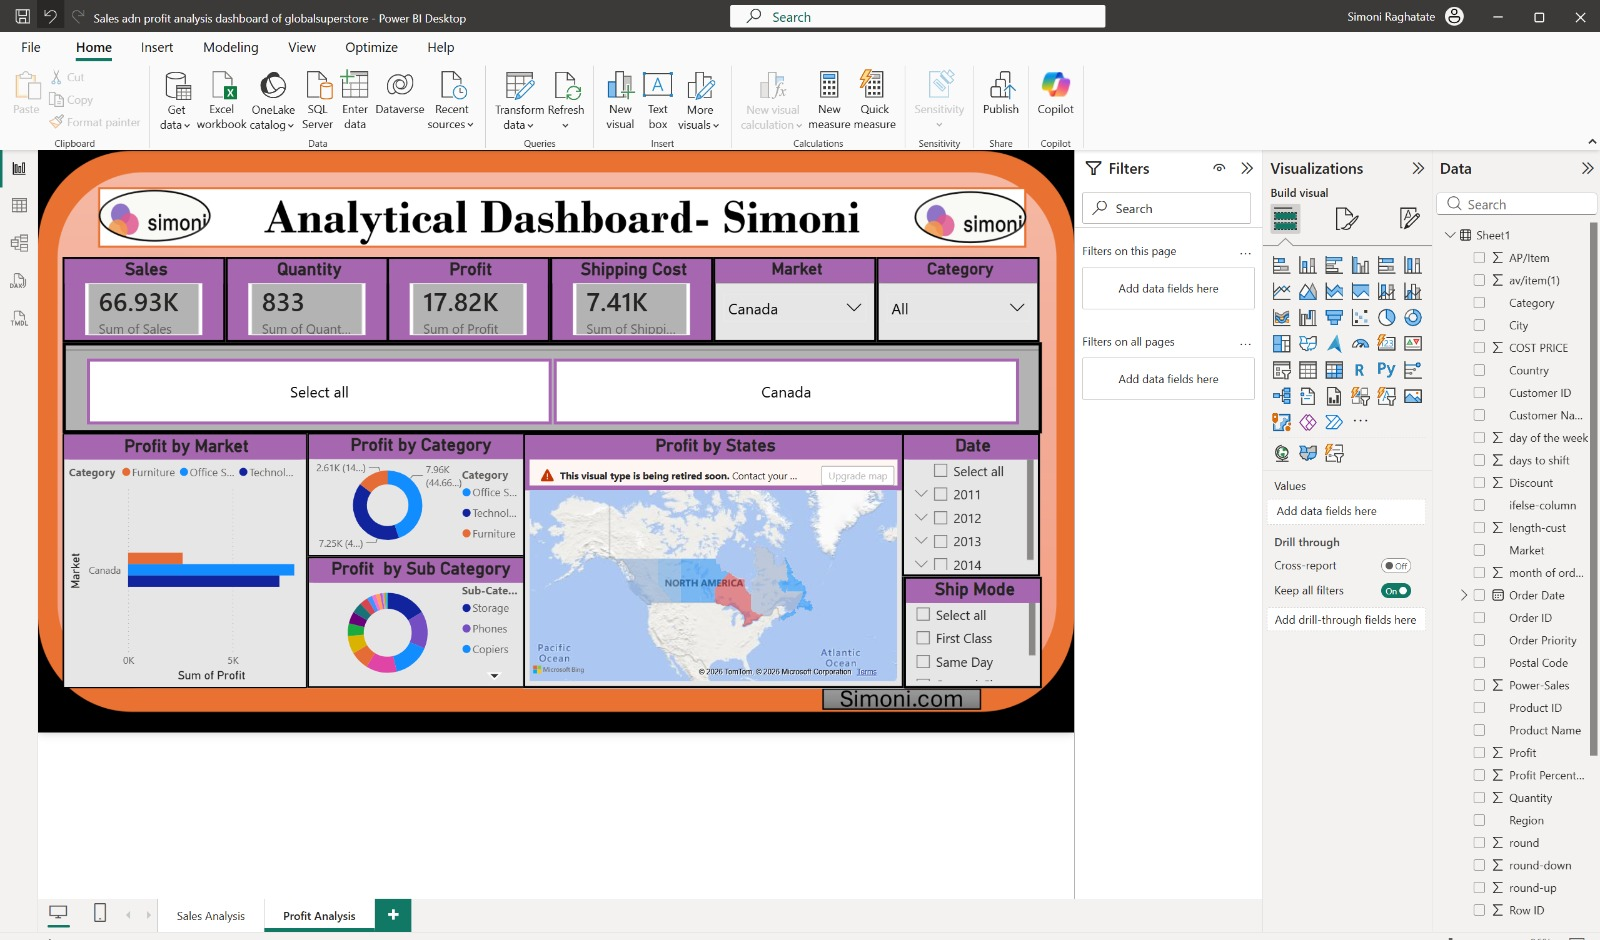

This screenshot's page, from the dashboard's own definition file:
{"tool":"powerbi","page":{"name":"Profit Analysis ","canvas":[1280,720],"ordinal":1},"visuals":[{"type":"cardVisual","title":"Sales","fields":{"Data":["Sum(Sheet1.Sales)"]},"box":[30.1,132.1,201.6,105.4],"z":0},{"type":"slicer","title":"Market ","fields":{"Values":["Sheet1.Market"]},"box":[834.3,132.1,201.6,105.4],"z":1000},{"type":"slicer","title":"Category ","fields":{"Values":["Sheet1.Category"]},"box":[1035.9,132.1,201.6,105.4],"z":2000},{"type":"slicer","fields":{"Values":["Sheet1.Country"]},"box":[30.1,237.5,1209.7,112.4],"z":3000},{"type":"clusteredBarChart","title":"Profit by Market ","fields":{"Category":["Sheet1.Market"],"Series":["Sheet1.Category"],"Y":["Sum(Sheet1.Profit)"]},"box":[30.1,349.9,302.4,315.2],"z":4000},{"type":"donutChart","title":"Profit by Category ","fields":{"Category":["Sheet1.Category"],"Y":["Sum(Sheet1.Profit)"]},"box":[332.6,349.9,276.9,153],"z":5000},{"type":"donutChart","title":"Profit  by Sub Category ","fields":{"Category":["Sheet1.Sub-Category"],"Y":["Sum(Sheet1.Profit)"]},"box":[332.6,502.9,276.9,162.2],"z":6000},{"type":"filledMap","title":"Profit by States","fields":{"Category":["Sheet1.State"]},"box":[599.1,349.9,470.4,315.2],"z":7000},{"type":"slicer","title":"Date","fields":{"Values":["Sheet1.Order Date.Variation.Date Hierarchy.Year","Sheet1.Order Date.Variation.Date Hierarchy.Quarter","Sheet1.Order Date.Variation.Date Hierarchy.Month","Sheet1.Order Date.Variation.Date Hierarchy.Day"]},"box":[1067.2,349.9,170.3,177.3],"z":8000},{"type":"slicer","title":"Ship Mode ","fields":{"Values":["Sheet1.Ship Mode"]},"box":[1069.5,527.2,170.3,137.9],"z":9000},{"type":"cardVisual","title":"Quantity","fields":{"Data":["Sum(Sheet1.Quantity)"]},"box":[231.7,132.1,201.6,105.4],"z":10000},{"type":"cardVisual","title":"Profit ","fields":{"Data":["Sum(Sheet1.Profit)"]},"box":[431,132.1,201.6,105.4],"z":11000},{"type":"cardVisual","title":"Shipping Cost ","fields":{"Data":["Sum(Sheet1.Shipping Cost)"]},"box":[632.7,132.1,201.6,105.4],"z":12000}]}

Visuals, with their boxes on the page's 1280x720 design canvas (x1, y1, x2, y2). These are canvas units, not pixel positions in the 1600x940 screenshot, which may show the page scaled, cropped or inside an application window:
"Sales" cardVisual: {"x1": 30, "y1": 132, "x2": 232, "y2": 238}
"Market " slicer: {"x1": 834, "y1": 132, "x2": 1036, "y2": 238}
"Category " slicer: {"x1": 1036, "y1": 132, "x2": 1238, "y2": 238}
slicer - Sheet1.Country: {"x1": 30, "y1": 238, "x2": 1240, "y2": 350}
"Profit by Market " clusteredBarChart: {"x1": 30, "y1": 350, "x2": 332, "y2": 665}
"Profit by Category " donutChart: {"x1": 333, "y1": 350, "x2": 610, "y2": 503}
"Profit  by Sub Category " donutChart: {"x1": 333, "y1": 503, "x2": 610, "y2": 665}
"Profit by States" filledMap: {"x1": 599, "y1": 350, "x2": 1070, "y2": 665}
"Date" slicer: {"x1": 1067, "y1": 350, "x2": 1238, "y2": 527}
"Ship Mode " slicer: {"x1": 1070, "y1": 527, "x2": 1240, "y2": 665}
"Quantity" cardVisual: {"x1": 232, "y1": 132, "x2": 433, "y2": 238}
"Profit " cardVisual: {"x1": 431, "y1": 132, "x2": 633, "y2": 238}
"Shipping Cost " cardVisual: {"x1": 633, "y1": 132, "x2": 834, "y2": 238}
